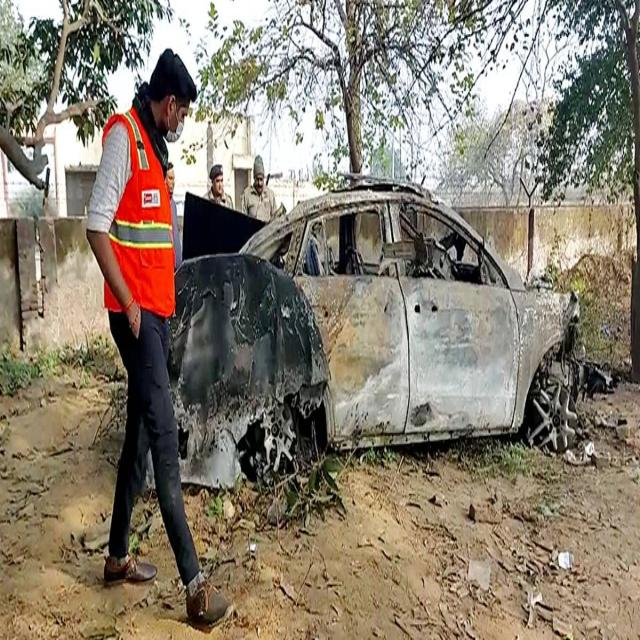accident: (169, 178, 578, 487)
